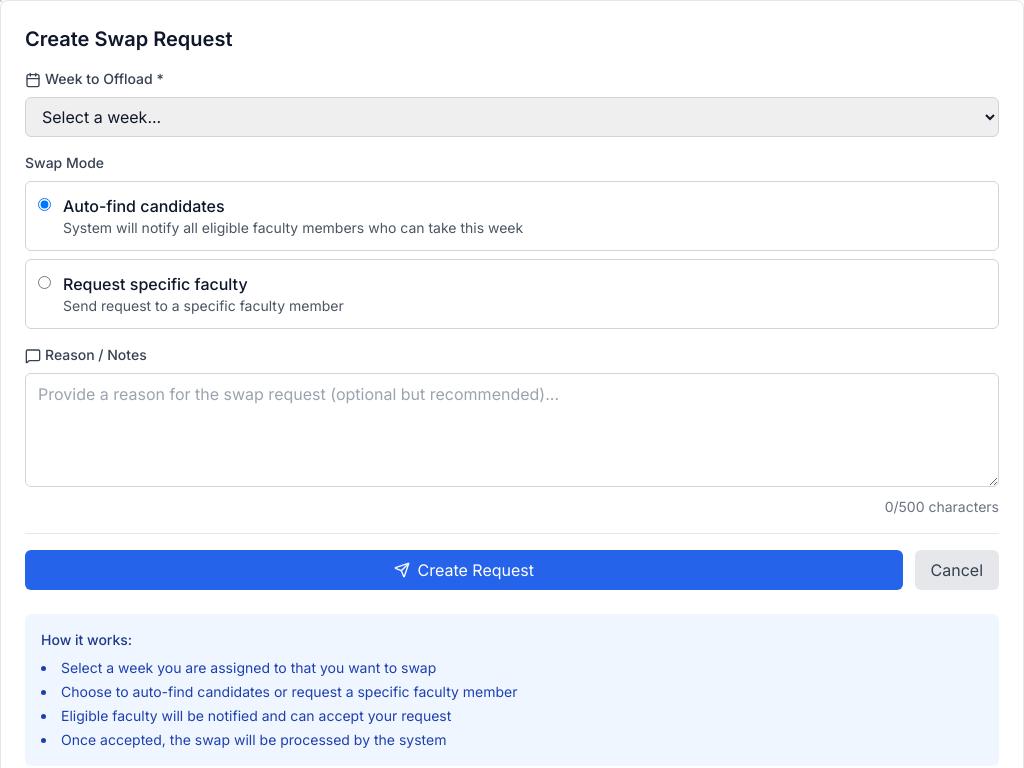
SwapRequestForm › Form Validation › should show error when specific mode is selected but no faculty is chosen
This screenshot has width=1024, height=768.
// Select a week
Select "Jul 1, 2025" in the dropdown: [512, 117] box [25,97,999,137]
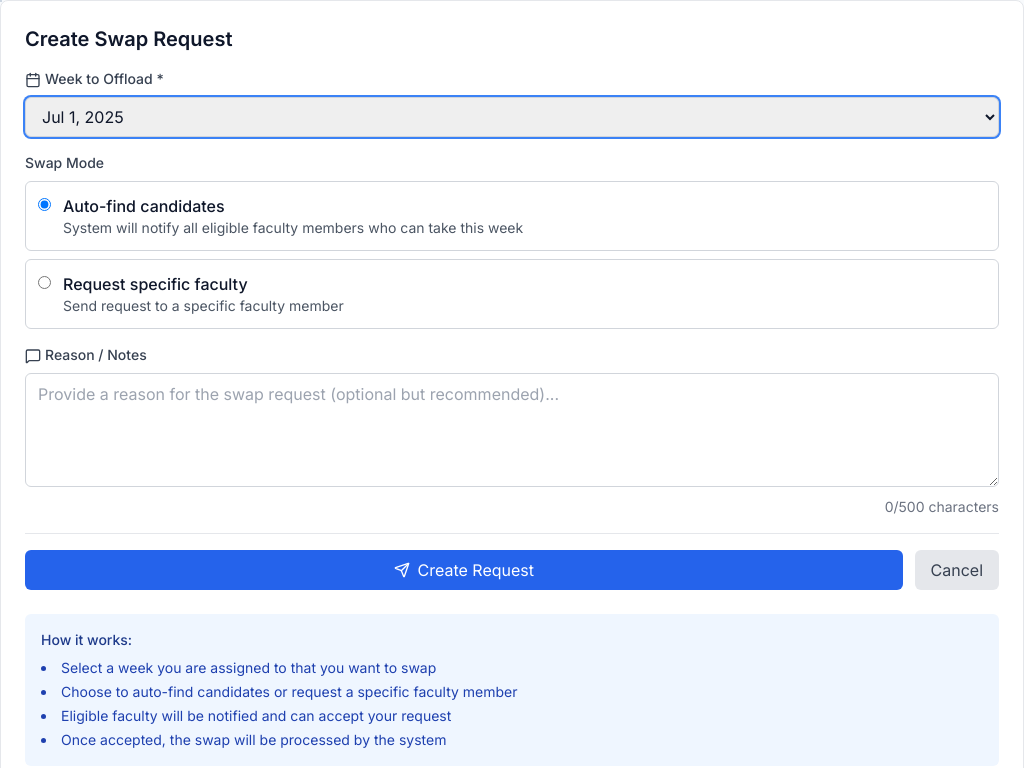
// Switch to specific mode without selecting faculty
Click the 2nd radio button: [44, 282] box [38,276,51,289]
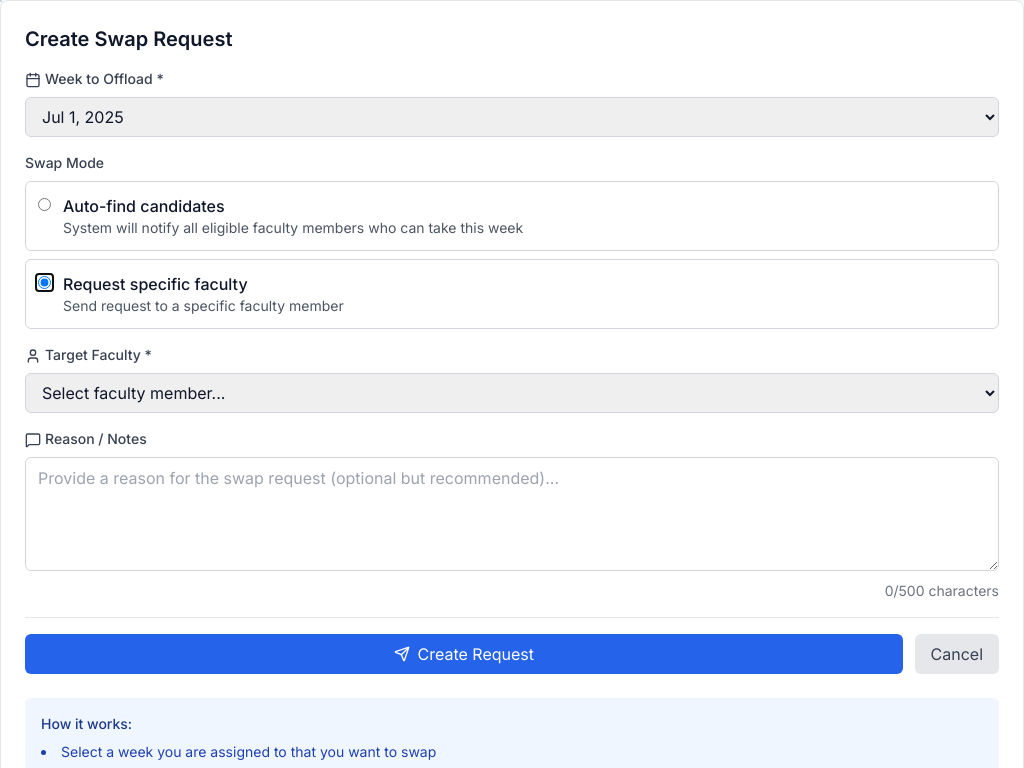
Click the button "Create Request": [464, 654] box [25,634,902,674]
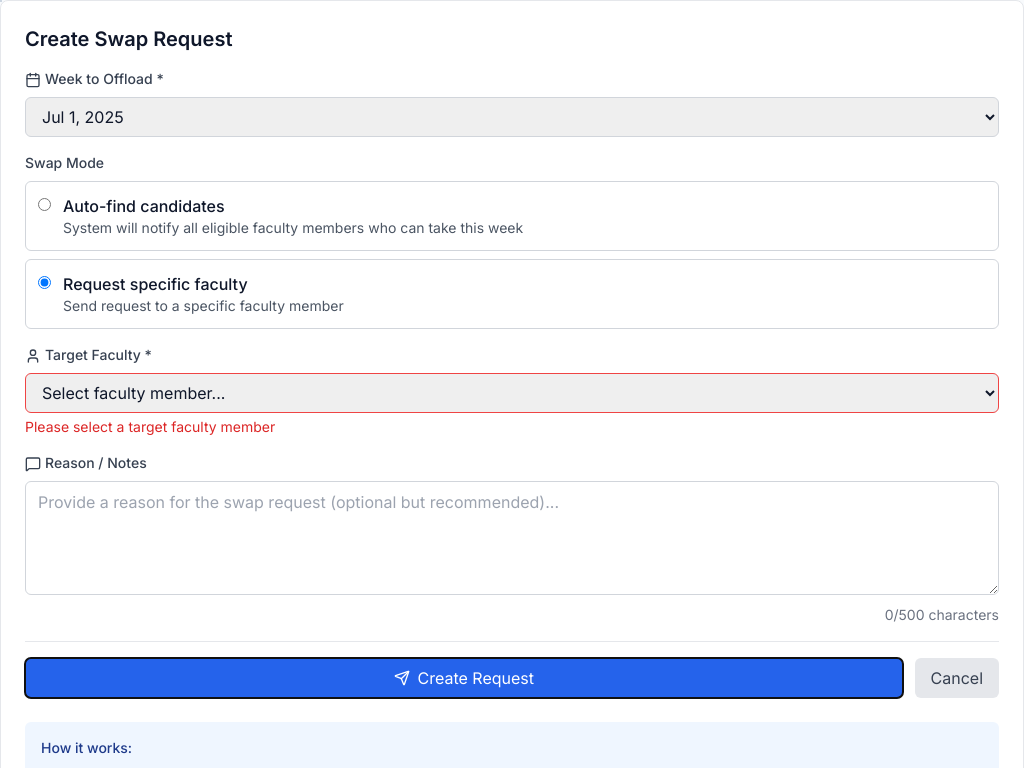
Check: the text "Please select a target faculty member" is shown, box [25,418,275,435]
